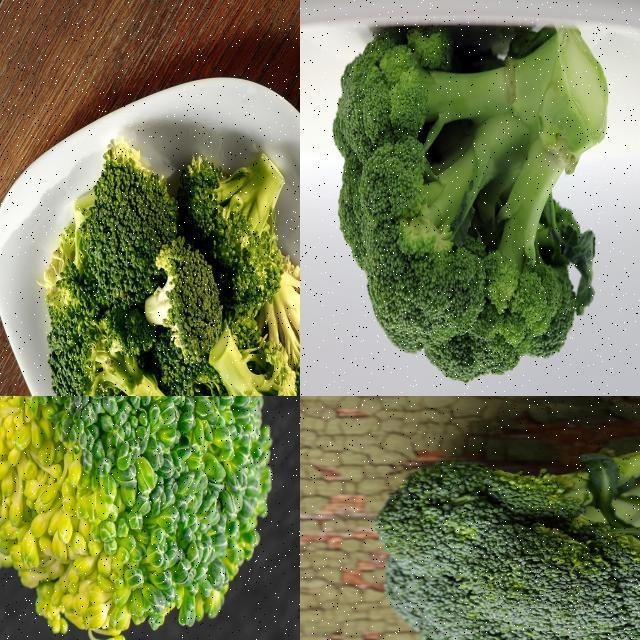broccoli: (326, 24, 610, 390), (0, 396, 278, 639), (372, 415, 639, 639), (187, 146, 292, 314), (44, 271, 176, 395), (207, 321, 296, 395), (263, 247, 299, 374)
